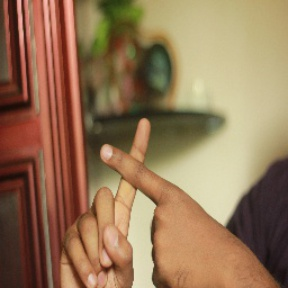X: (68, 107, 196, 236)
